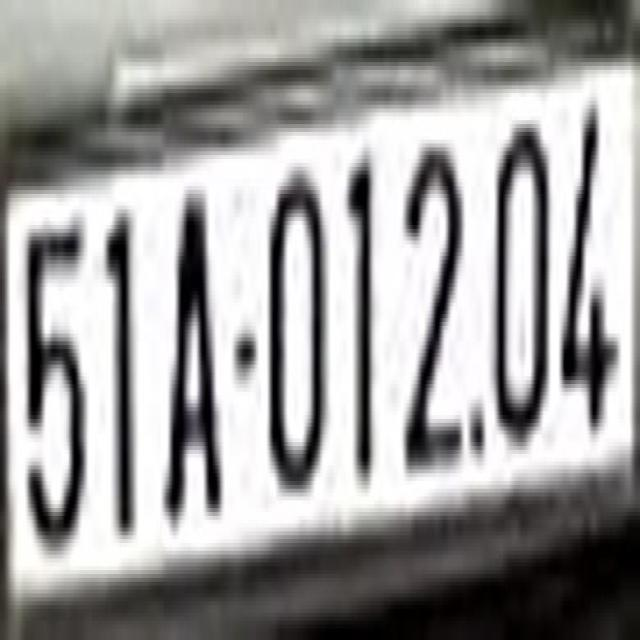0: (264, 167, 324, 492), (497, 104, 549, 430)
1: (102, 194, 138, 547), (346, 151, 375, 485)
2: (401, 159, 464, 465)
4: (560, 97, 619, 423)
5: (27, 202, 88, 547)
A: (162, 190, 222, 524)
